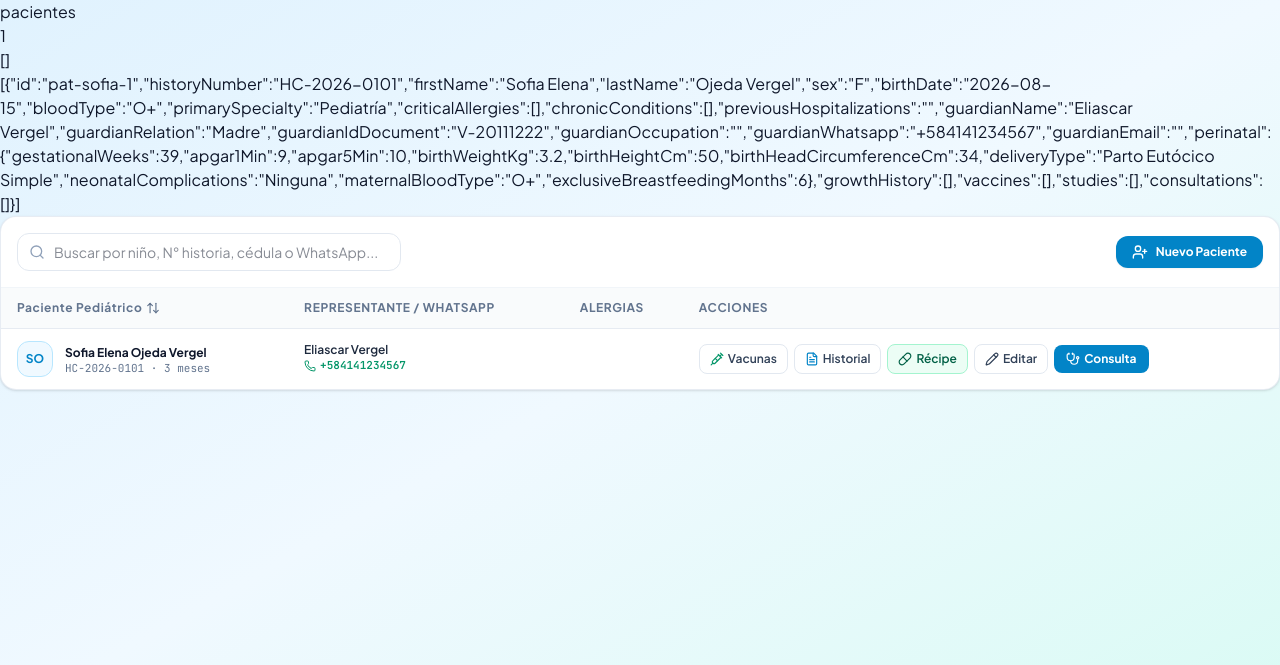
Test case: Flujo real de uso del Doctor de Pediatría › Escenario 2: Paciente SÍ existe -> busca -> inicia consulta -> agrega récipe -> cierra consulta
Later steps or results of the test are not shown.
Note: Buscar paciente existente
In the field with placeholder "Buscar por niño, N° historia, cédula o WhatsApp...": point(209, 252) [17,233,401,271], type "Sofia"
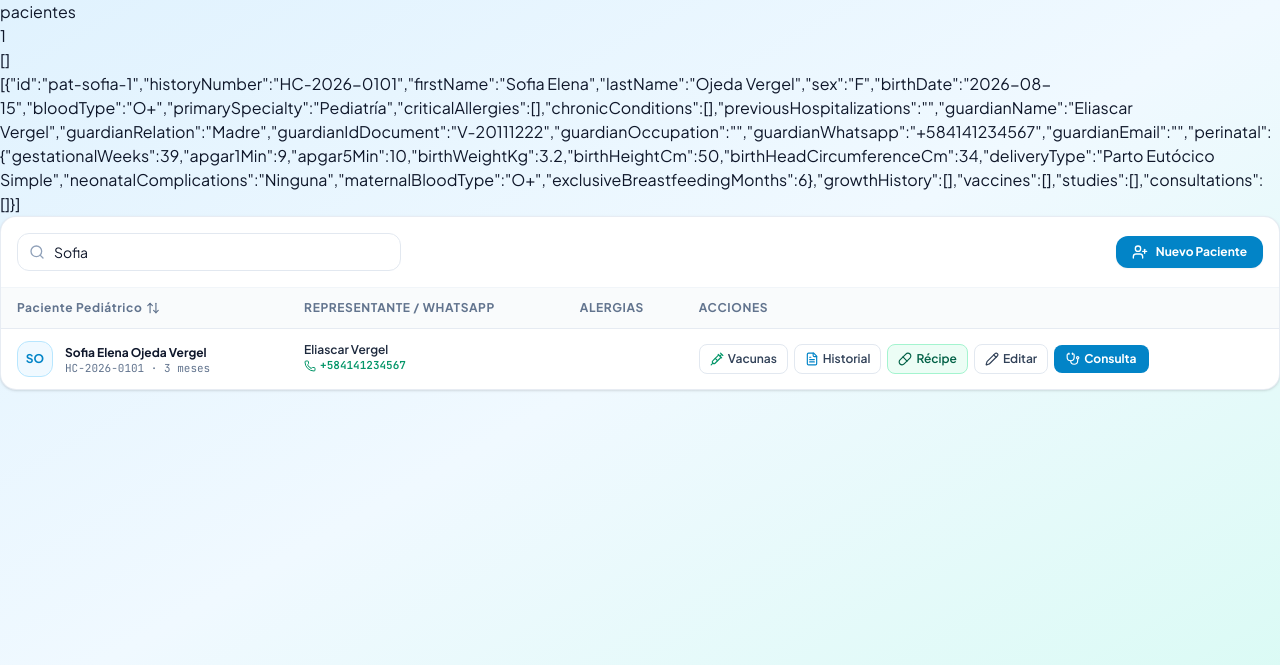
Check: the button "Sofia Elena Ojeda Vergel" is shown, box [65,345,207,361]
Note: Iniciar Consulta
Click the button "Consulta": point(1101, 359) [1054,345,1148,373]
(page scrolled)
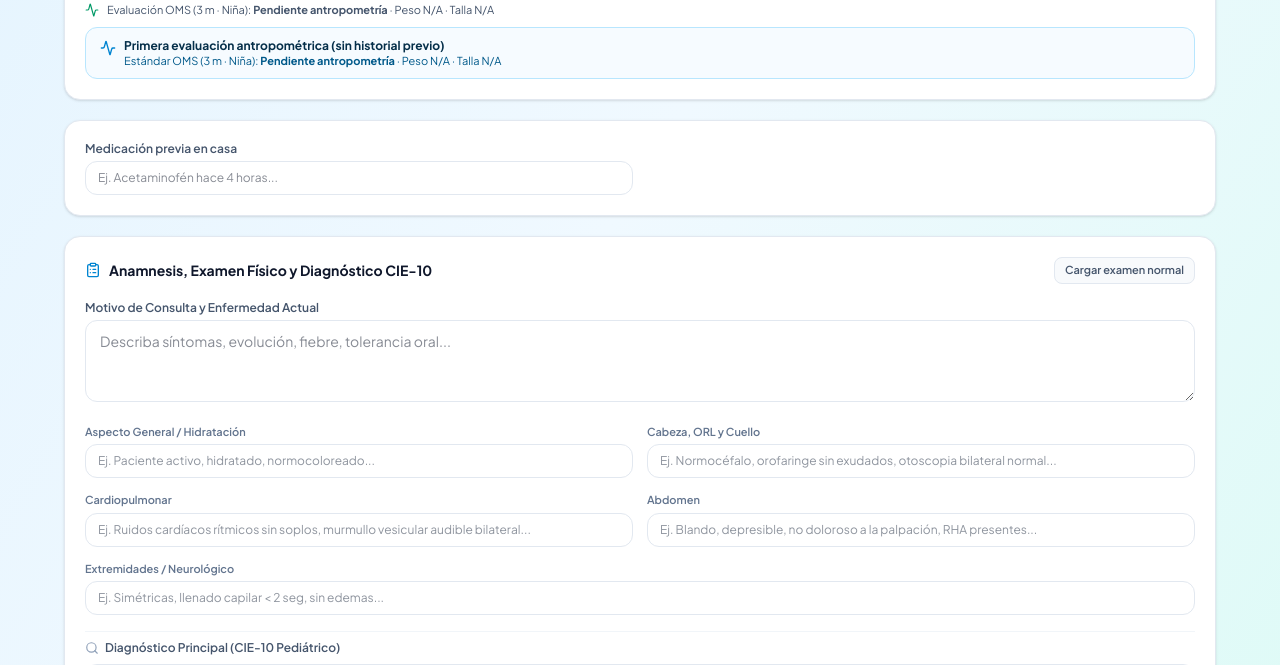
Note: Registrar información base + activar Récipe opcional y agregar medicamento
In the text box with placeholder "Describa síntomas, evolución, fiebre, tolerancia oral...": point(640, 361) [85,320,1195,402], type "Fiebre de 38.5°C y tos leve"
(page scrolled)
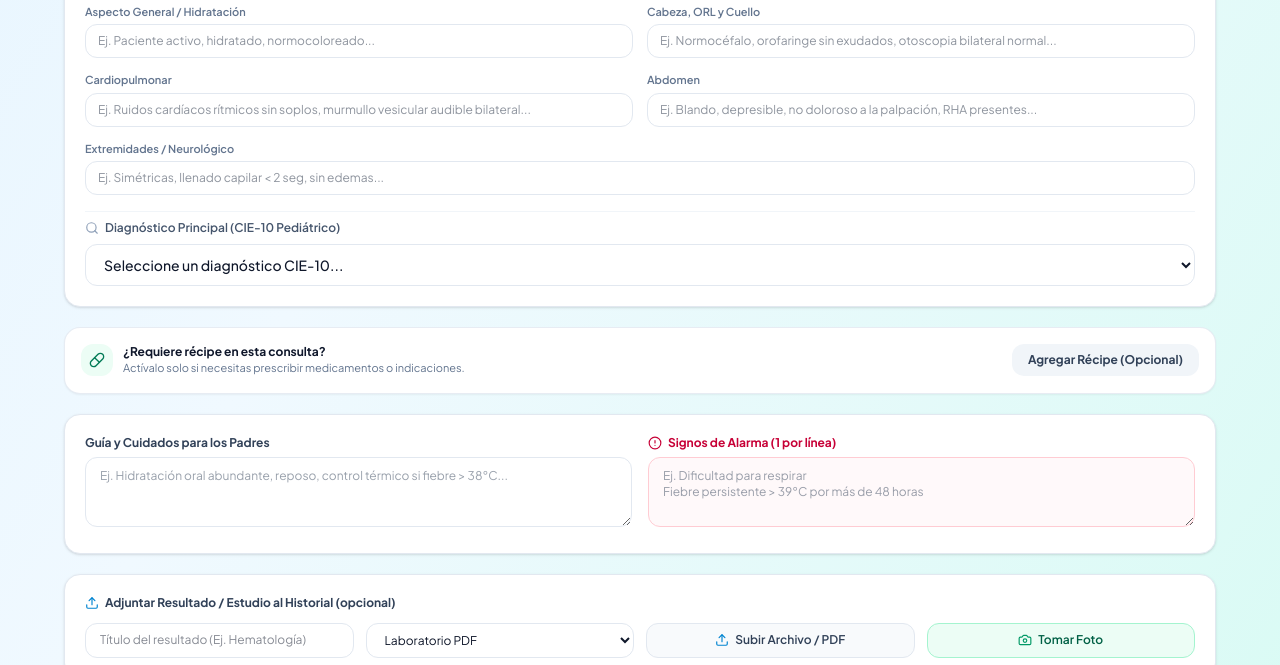
Click the switch: point(1105, 360) [1012,344,1199,376]
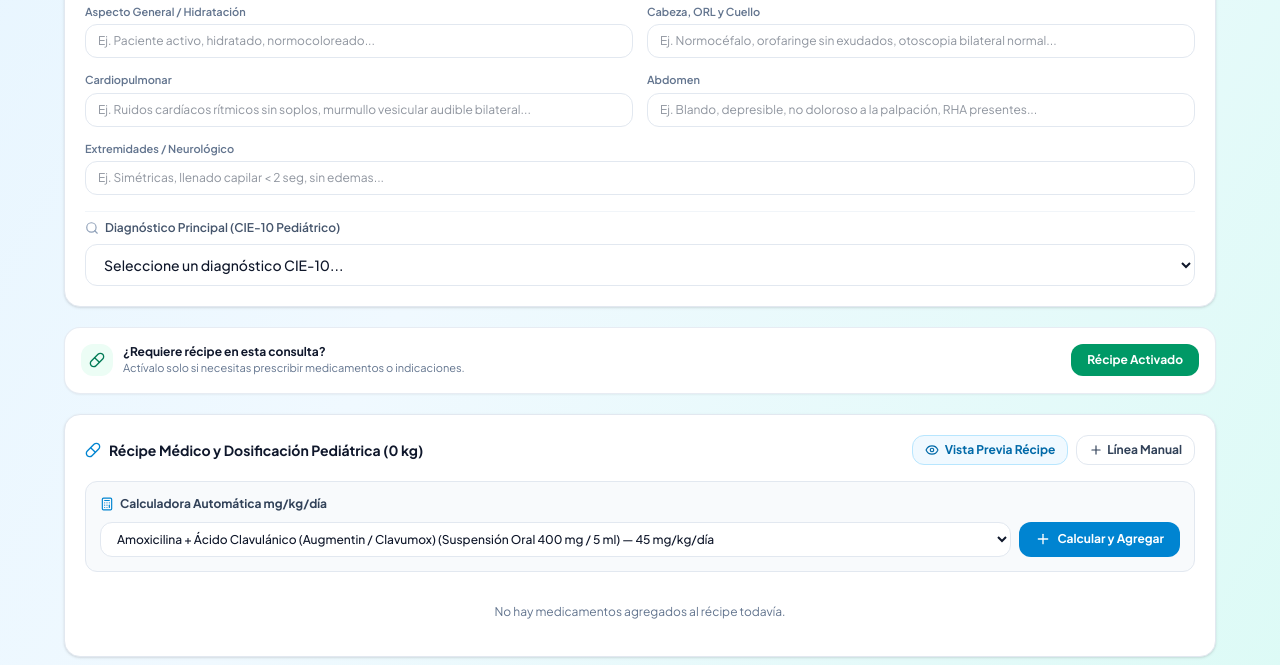
Check: the switch "Récipe Activado" is shown, box [1071,344,1199,376]
